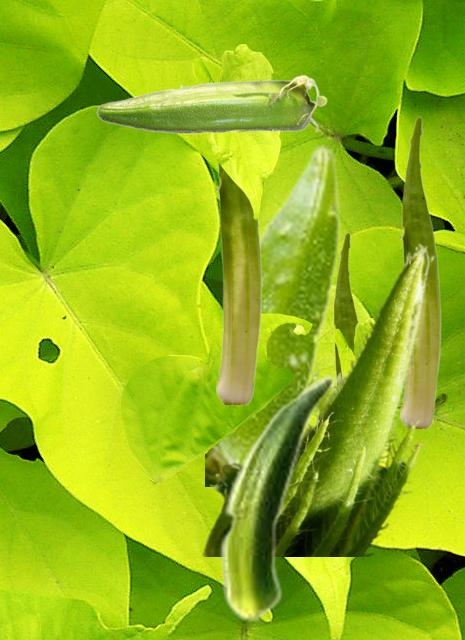okra: (199, 242, 434, 555), (205, 142, 341, 485), (219, 375, 334, 622), (96, 74, 326, 133), (400, 116, 440, 427), (216, 162, 261, 403), (332, 232, 359, 375)
